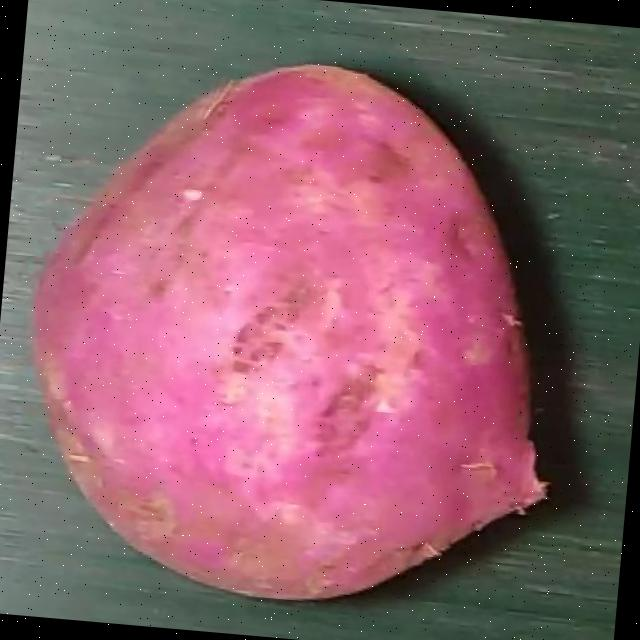Sweet Potato: (28, 60, 549, 598)
